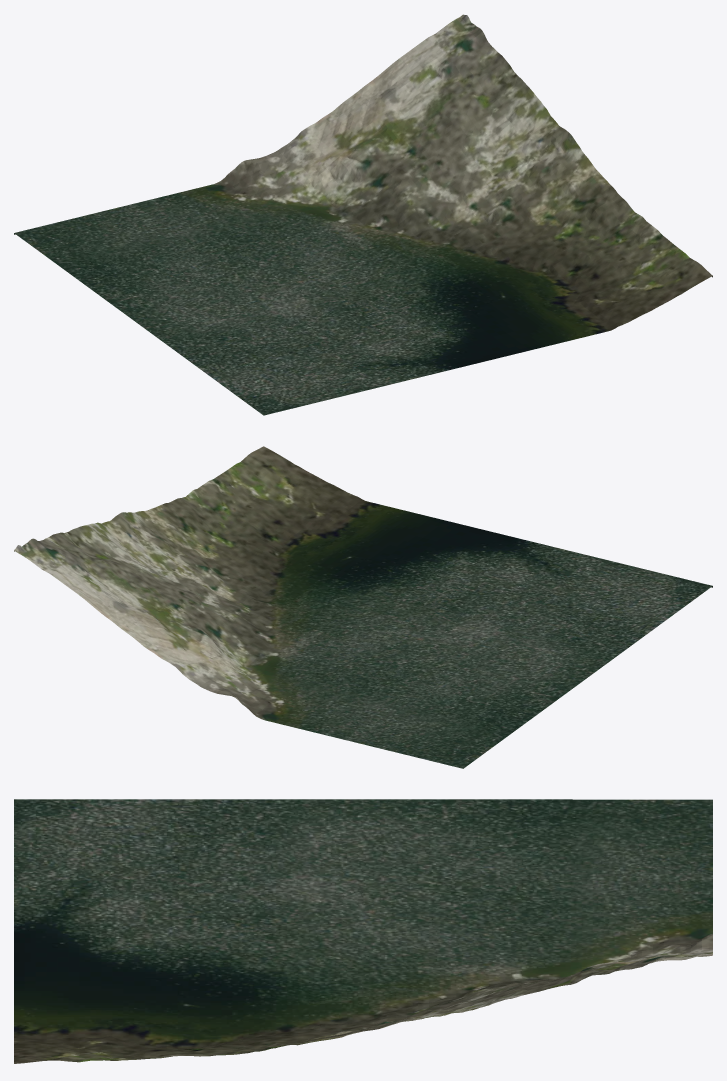
3 views of the same model, one above another, from view 1: azimuth 30°, elevation 25°; view 2: azimuth 150°, elevation 25°; view 3: azimuth 270°, elevation 25° (orthographic). The views are drawn at different scales.
Size of the model in its own units: 250 by 60.19 by 241.
Materials: 1 (1 with a texture image).
